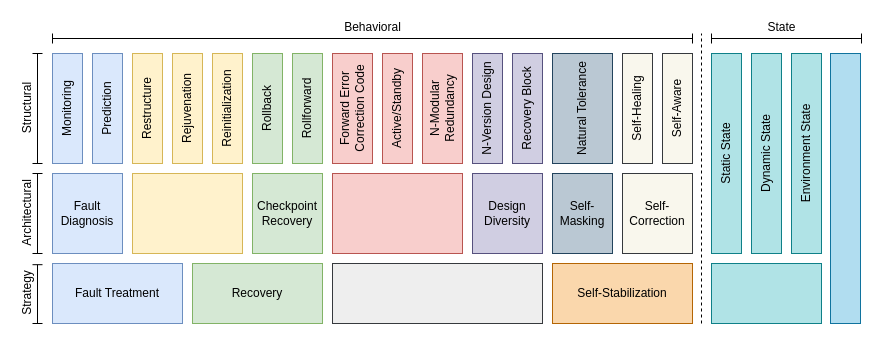
This 879x342 diagram has some shape labels left out. The shapes that lost their labels are listed below. From the top down, each one's centre as x and y in pixels, then its label:
the point at 845,188: Stateless
the point at 187,213: Reconfiguration
the point at 397,213: Redundancy
the point at 437,293: Compensation
the point at 766,293: Stateful
